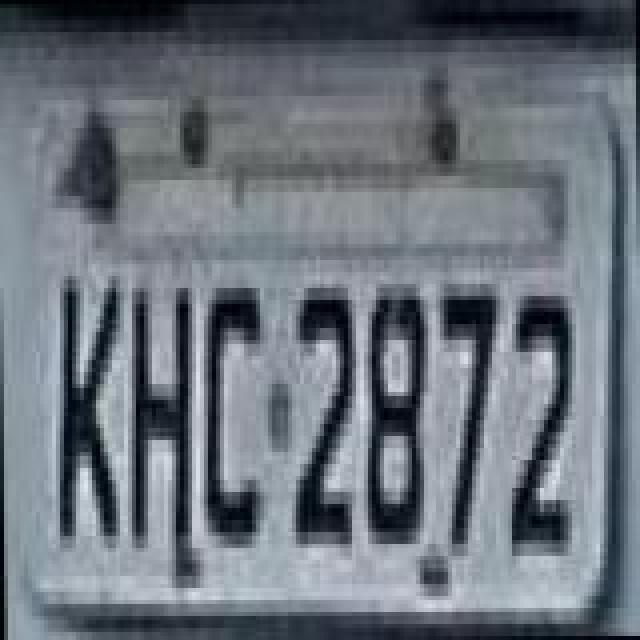2: (502, 290, 578, 558), (288, 280, 360, 552)
7: (440, 282, 504, 550)
8: (360, 284, 432, 548)
C: (198, 280, 266, 552)
H: (124, 284, 196, 548)
K: (52, 270, 124, 546)
